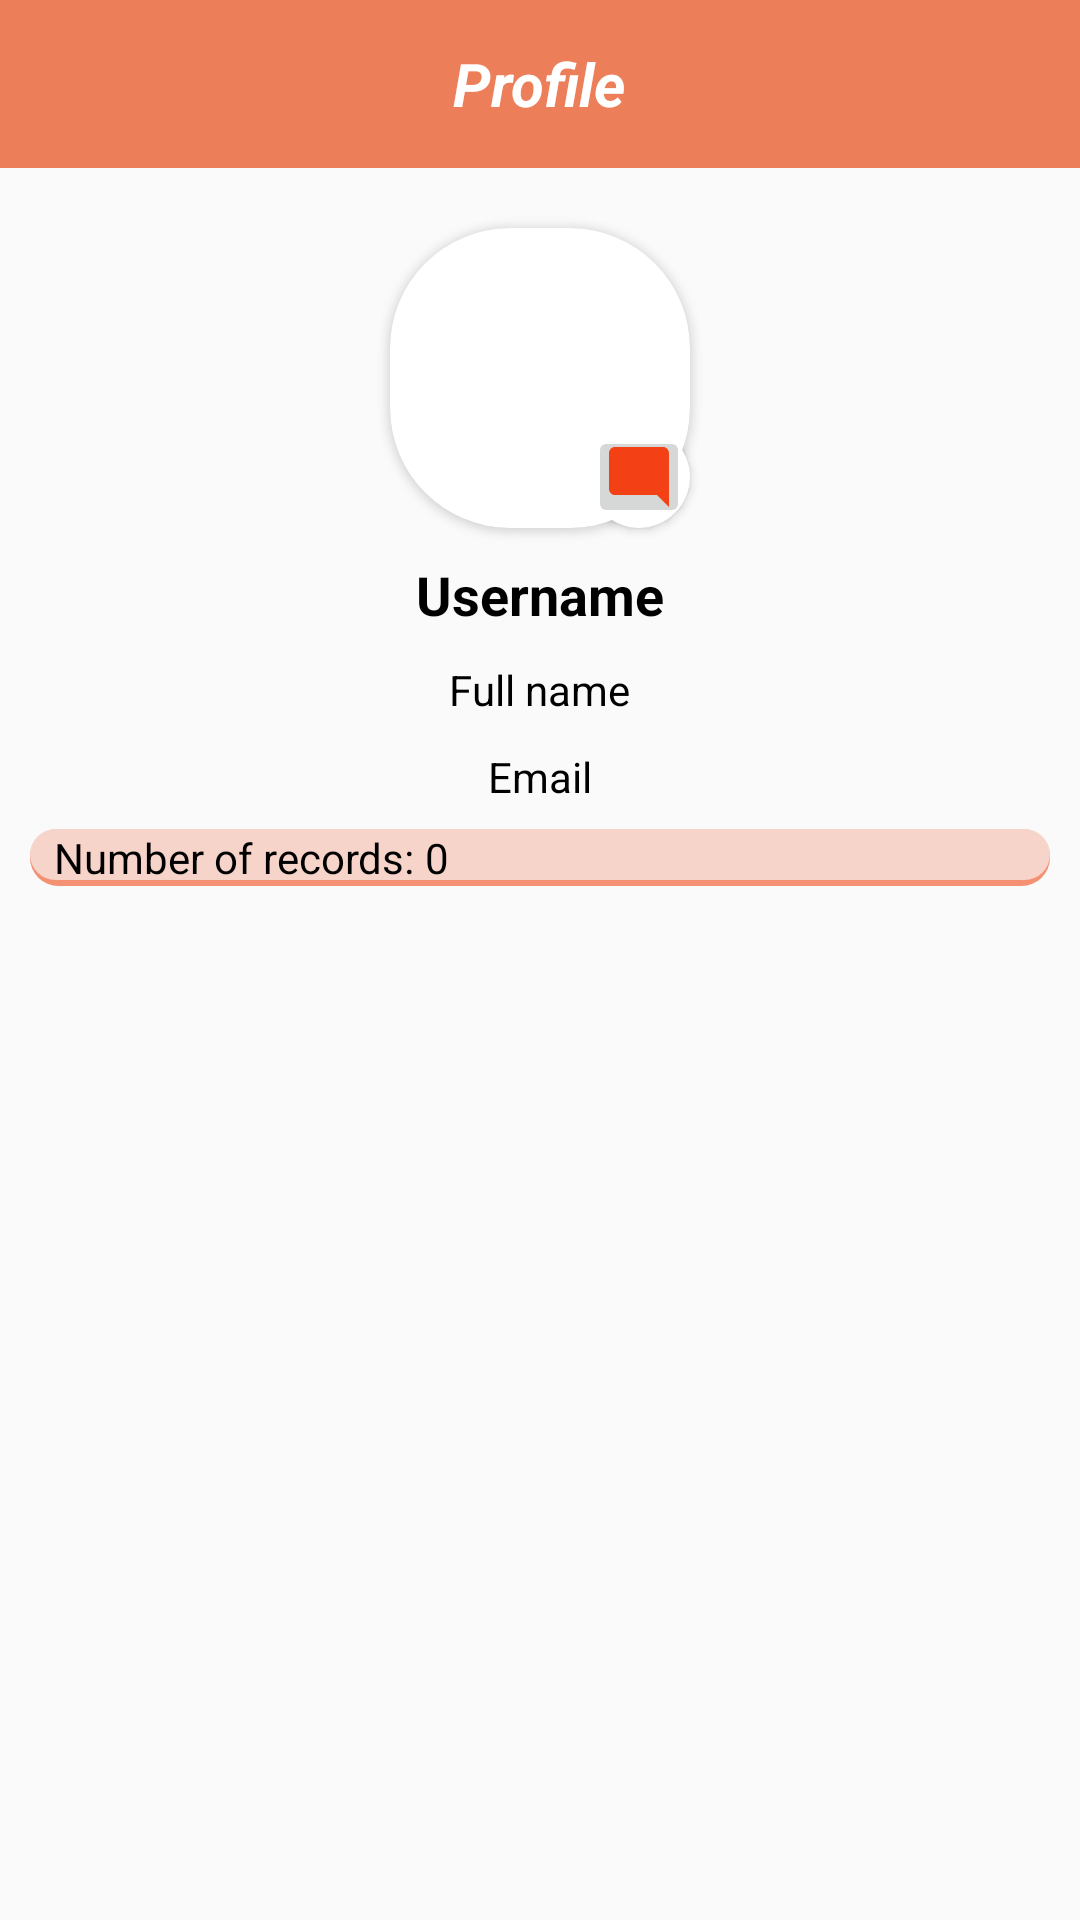

Where icons sit on this 1080 × 1920 app screen, as (x1, y1, x2, y2):
mode comment: (600, 444, 678, 510)
